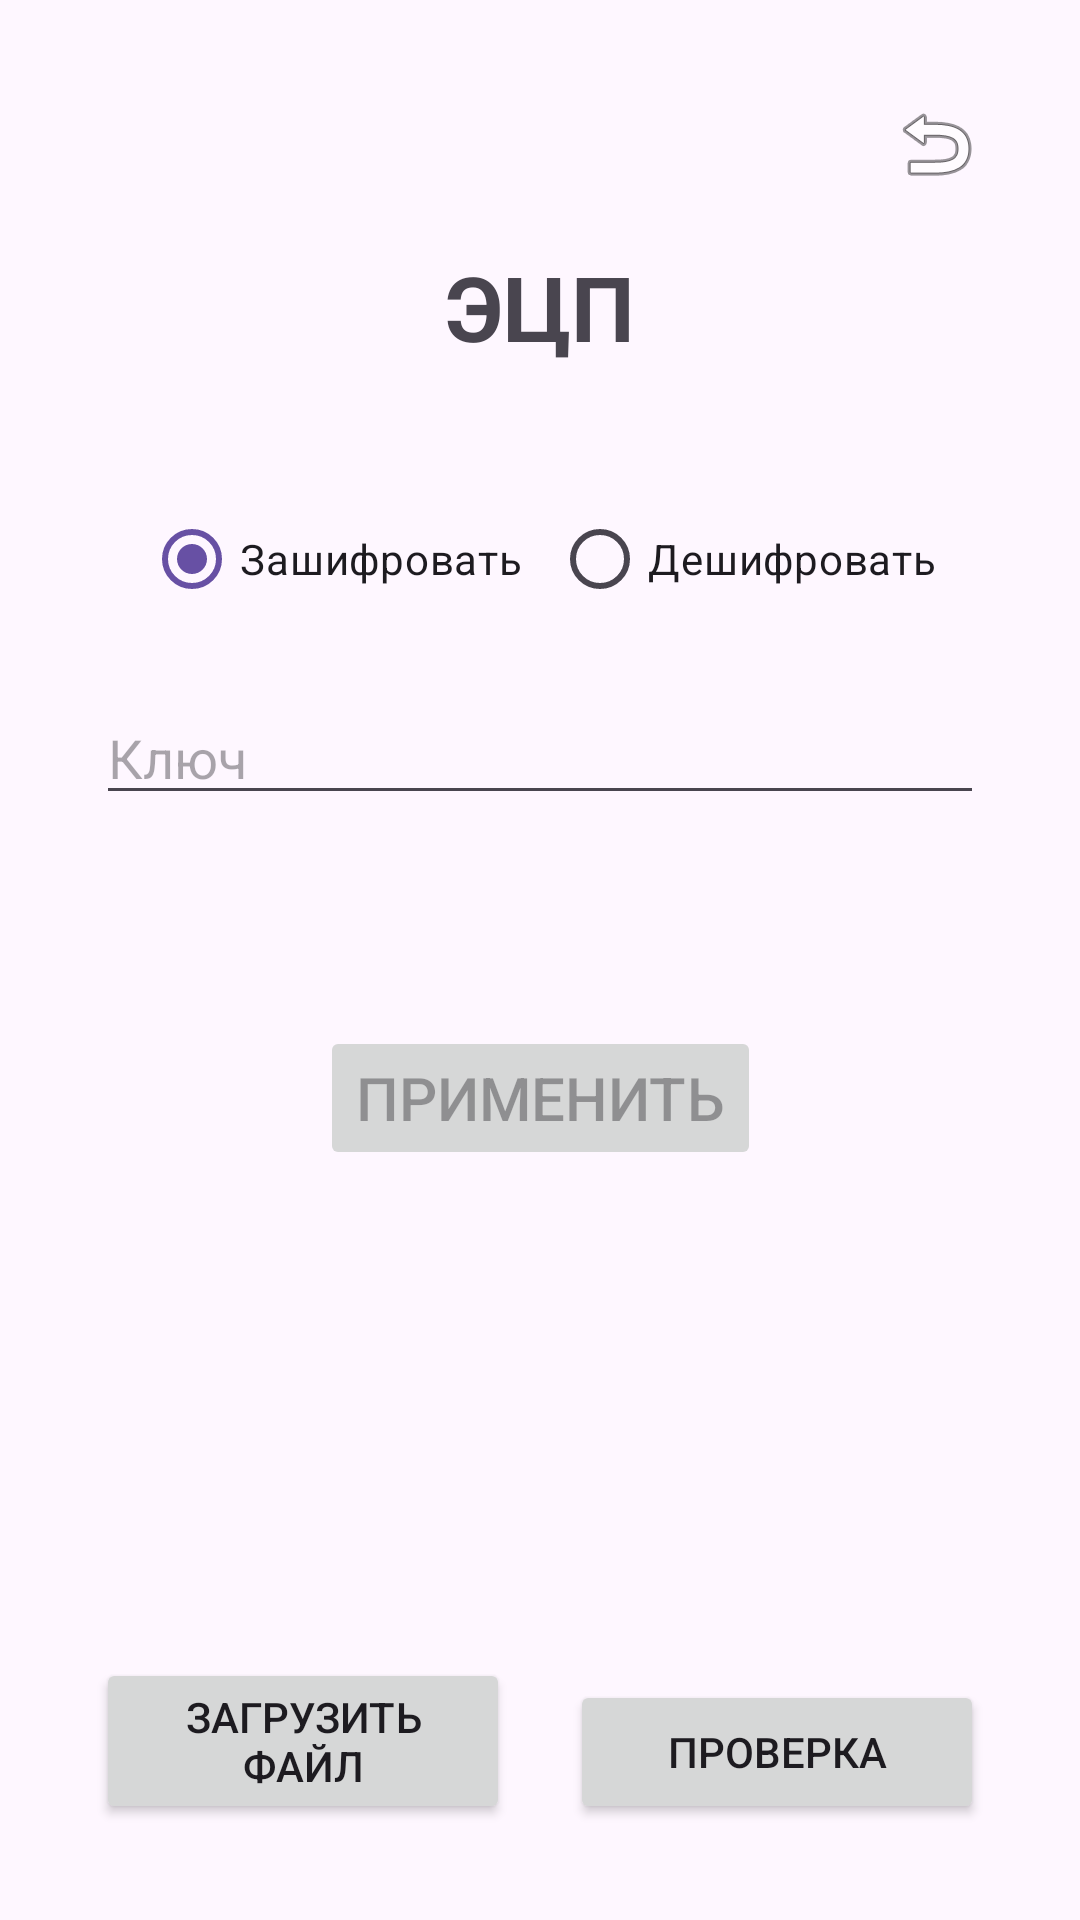

Named icons in this screenshot (1080x1920) and their bounding boxes, (x1, y1, x2, y2):
revert: (903, 113, 972, 176)
